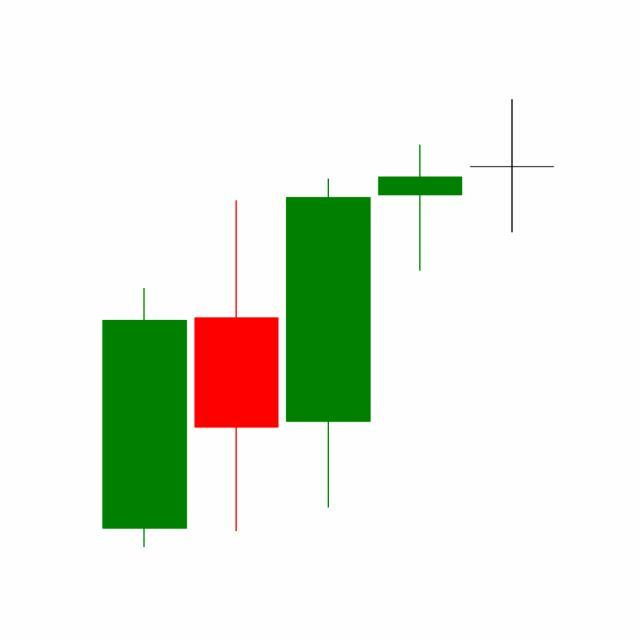Advance Block: (280, 99, 555, 513)
